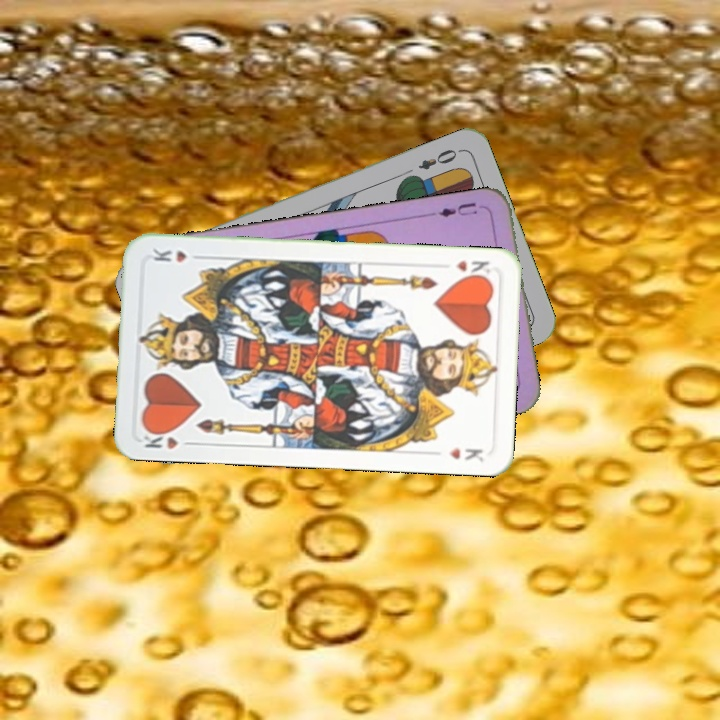EO: (414, 145, 464, 173)
EU: (428, 198, 480, 220)
HK: (139, 425, 197, 452), (452, 256, 493, 281)
